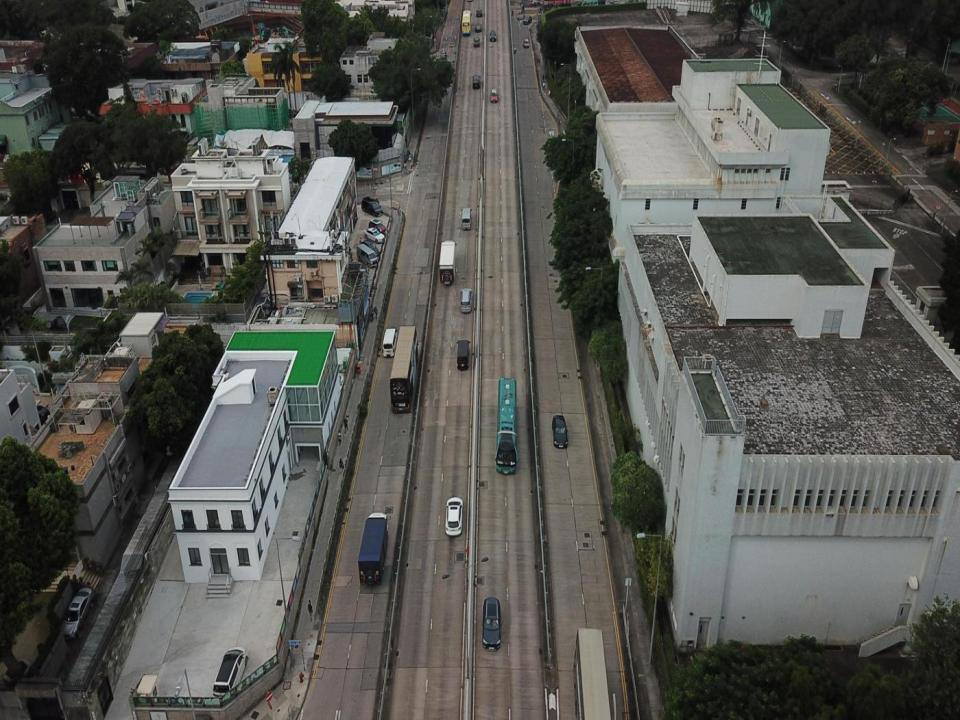bus: (572, 628, 616, 719), (390, 323, 418, 413), (495, 376, 518, 476), (461, 9, 472, 37)
car: (213, 647, 248, 699), (63, 590, 92, 642), (482, 596, 501, 650), (446, 497, 463, 536), (552, 415, 568, 450), (363, 226, 387, 245), (460, 288, 473, 312), (370, 219, 386, 234), (523, 14, 532, 27), (491, 90, 498, 105), (489, 30, 497, 42), (523, 36, 529, 48), (473, 38, 480, 48), (476, 23, 482, 32)
truck: (359, 511, 388, 586), (438, 240, 456, 284), (361, 195, 384, 218), (457, 340, 470, 371), (461, 207, 471, 231), (472, 73, 480, 91), (476, 8, 480, 17)
van: (382, 329, 396, 357)
